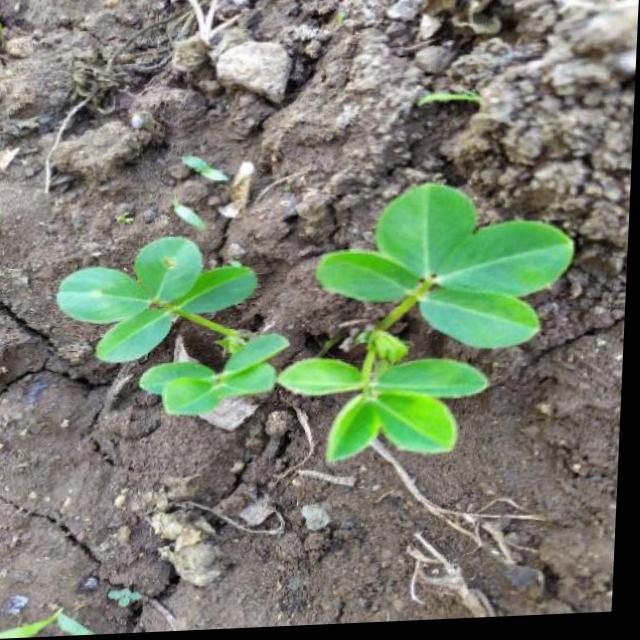crop: (43, 173, 588, 502)
